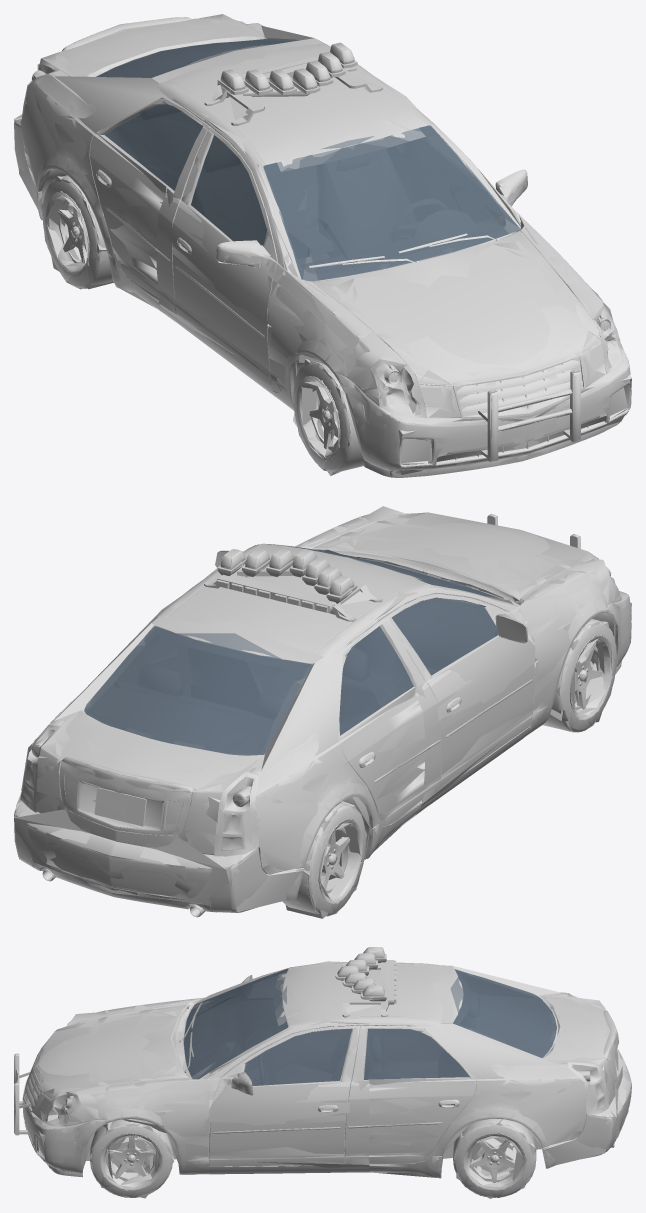
Rendered from police.fbx.
3 views of the same model, one above another, from view 1: azimuth 30°, elevation 25°; view 2: azimuth 150°, elevation 25°; view 3: azimuth 270°, elevation 25° (orthographic). The views are drawn at different scales.
Parts seen in each view (by area): view 1: Body, LOD1_Body, LOD3_Body, LOD2_Body, Door_FR, LOD1_Door_FR, LOD3_Door_FR, LOD2_Door_FR, Wheel_FR, Wheel_RR, Door_FL, LOD1_Door_FL (+6 smaller); view 2: Body, LOD1_Body, LOD3_Body, LOD2_Body, Door_FR, LOD3_Door_FR, LOD1_Door_FR, LOD2_Door_FR, Wheel_RR, Wheel_FR, LOD1_Wheel_FR, LOD1_Wheel_RR (+4 smaller); view 3: Body, LOD1_Body, LOD3_Body, LOD2_Body, Door_FL, LOD3_Door_FL, LOD1_Door_FL, LOD2_Door_FL, Wheel_FL, Wheel_RL, LOD1_Wheel_FL, LOD1_Wheel_RL (+6 smaller).
Part boxes in pixels (<box>): Body: <box>14,14,631,477</box>; LOD1_Body: <box>14,14,631,471</box>; LOD3_Body: <box>14,18,631,474</box>; LOD2_Body: <box>14,17,629,477</box>; Door_FR: <box>155,120,329,397</box>; LOD1_Door_FR: <box>155,120,326,392</box>; LOD3_Door_FR: <box>159,135,308,375</box>; LOD2_Door_FR: <box>156,138,302,398</box>; Wheel_FR: <box>293,361,364,472</box>; Wheel_RR: <box>42,175,112,288</box>; Door_FL: <box>419,123,527,232</box>; LOD1_Door_FL: <box>418,110,526,232</box>; Body: <box>14,513,631,917</box>; LOD1_Body: <box>14,513,631,916</box>; LOD3_Body: <box>14,506,631,912</box>; LOD2_Body: <box>14,516,628,912</box>; Door_FR: <box>377,580,534,815</box>; LOD3_Door_FR: <box>392,579,535,806</box>; LOD1_Door_FR: <box>377,580,534,811</box>; LOD2_Door_FR: <box>394,584,534,811</box>; Wheel_RR: <box>283,802,365,915</box>; Wheel_FR: <box>543,619,616,732</box>; LOD1_Wheel_FR: <box>542,621,617,732</box>; LOD1_Wheel_RR: <box>285,805,366,915</box>; Body: <box>14,947,631,1177</box>; LOD1_Body: <box>14,947,631,1176</box>; LOD3_Body: <box>15,961,628,1178</box>; LOD2_Body: <box>14,967,625,1177</box>; Door_FL: <box>192,1023,369,1173</box>; LOD3_Door_FL: <box>198,1022,369,1172</box>; LOD1_Door_FL: <box>193,1023,369,1174</box>; LOD2_Door_FL: <box>209,1024,369,1166</box>; Wheel_FL: <box>90,1119,172,1197</box>; Wheel_RL: <box>453,1119,536,1196</box>; LOD1_Wheel_FL: <box>90,1123,172,1197</box>; LOD1_Wheel_RL: <box>453,1120,536,1197</box>.
Bounding box in the file's own units: 2.07 × 1.62 × 4.9.
